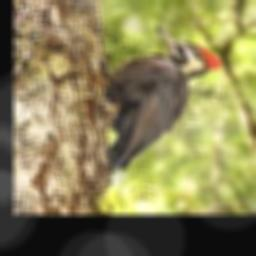Woodpecker: (103, 25, 221, 174)
